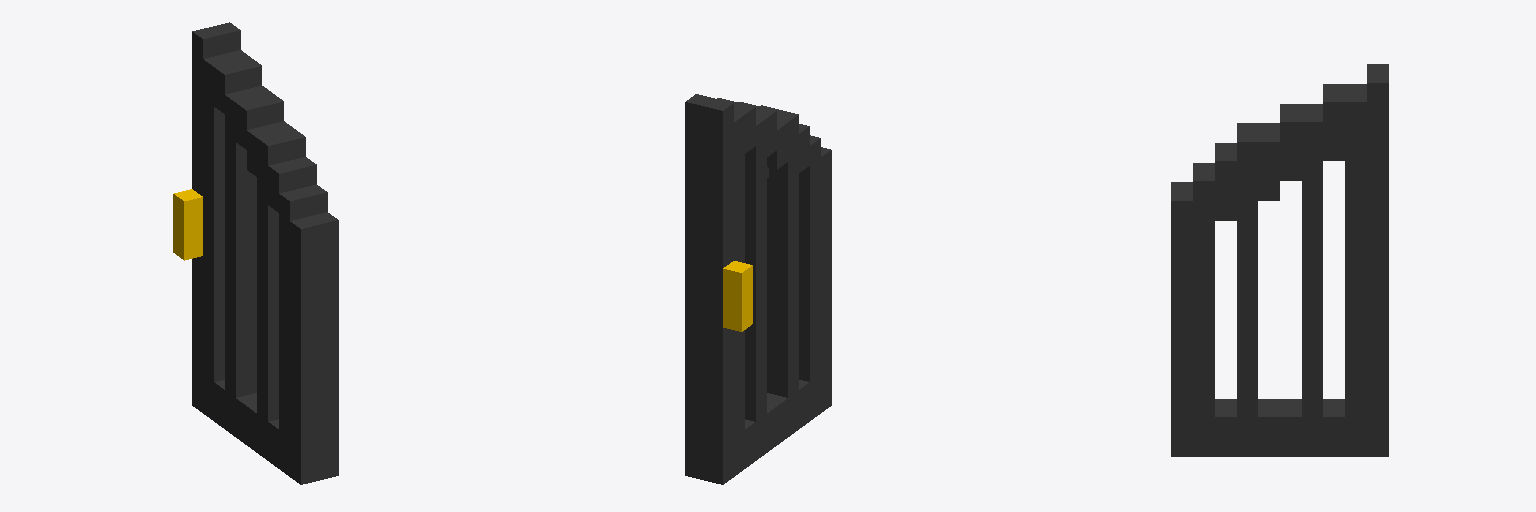
The picture shows the model from 3 angles: view 1: azimuth 30°, elevation 25°; view 2: azimuth 150°, elevation 25°; view 3: azimuth 270°, elevation 25°; orthographic projection.
Visible parts, largest first — view 1: object 1; view 2: object 1; view 3: object 1.
Part boxes in pixels (x1,y1,x2,y2): object 1: (173, 22, 338, 484); object 1: (685, 94, 831, 484); object 1: (1171, 64, 1388, 456).
Size of the model in its own units: 0.3 by 1.9 by 1.
Materials: 1 (1 with a texture image).